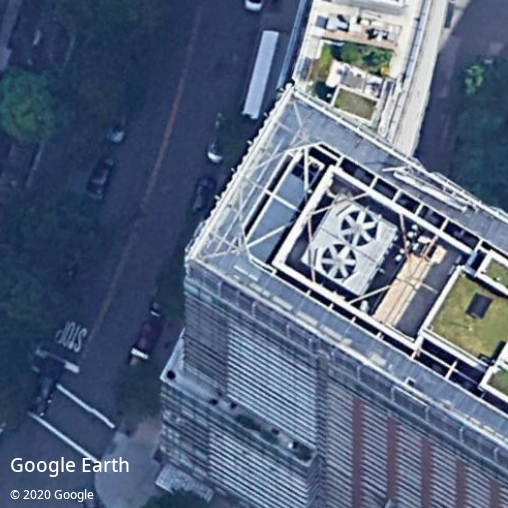Vent: (341, 211, 377, 247), (321, 244, 356, 280)
